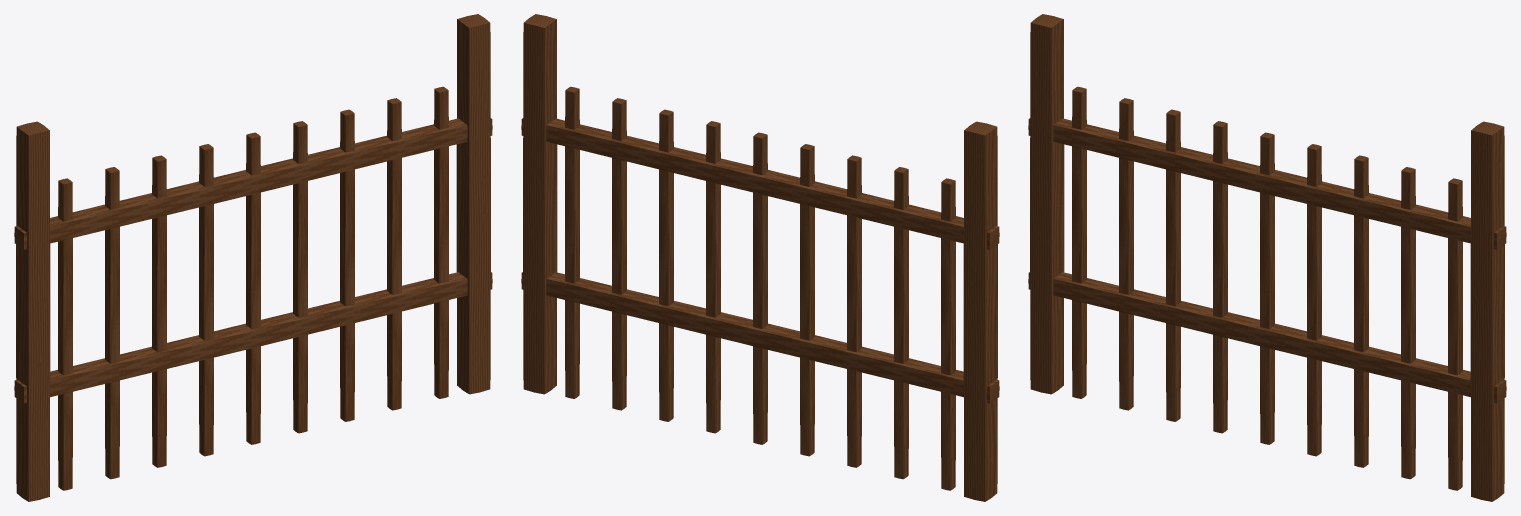
3 views of the same model, side by side, from view 1: azimuth 30°, elevation 25°; view 2: azimuth 150°, elevation 25°; view 3: azimuth 330°, elevation 25° (orthographic).
Parts seen in each view (by area): view 1: wood.0, wood.1, wood.3, wood.2, wood.12, wood.4, wood.10, wood.11, wood.5, wood.6, wood.9, wood.7 (+1 smaller); view 2: wood.0, wood.1, wood.3, wood.2, wood.4, wood.12, wood.5, wood.6, wood.10, wood.11, wood.7, wood.9 (+1 smaller); view 3: wood.1, wood.0, wood.3, wood.2, wood.12, wood.4, wood.11, wood.10, wood.6, wood.5, wood.9, wood.7 (+1 smaller).
Part boxes in pixels (x1,y1,x2,y2): wood.0: [16, 121, 50, 501]; wood.1: [456, 14, 490, 394]; wood.3: [14, 118, 492, 249]; wood.2: [14, 272, 492, 403]; wood.12: [434, 86, 448, 398]; wood.4: [58, 178, 72, 490]; wood.10: [340, 109, 354, 421]; wood.11: [387, 98, 401, 410]; wood.5: [105, 167, 119, 479]; wood.6: [152, 155, 166, 467]; wood.9: [293, 121, 307, 433]; wood.7: [199, 144, 213, 456]; wood.0: [963, 121, 997, 501]; wood.1: [523, 14, 557, 394]; wood.3: [521, 118, 999, 249]; wood.2: [521, 272, 999, 403]; wood.4: [941, 178, 955, 490]; wood.12: [565, 86, 579, 398]; wood.5: [894, 167, 908, 479]; wood.6: [847, 155, 861, 467]; wood.10: [659, 109, 673, 421]; wood.11: [612, 98, 626, 410]; wood.7: [800, 144, 814, 456]; wood.9: [706, 121, 720, 433]; wood.1: [1470, 121, 1504, 501]; wood.0: [1030, 14, 1064, 394]; wood.3: [1028, 118, 1506, 249]; wood.2: [1028, 272, 1506, 403]; wood.12: [1448, 178, 1462, 490]; wood.4: [1072, 86, 1086, 398]; wood.11: [1401, 167, 1415, 479]; wood.10: [1354, 155, 1368, 467]; wood.6: [1166, 109, 1180, 421]; wood.5: [1119, 98, 1133, 410]; wood.9: [1307, 144, 1321, 456]; wood.7: [1213, 121, 1227, 433].
Bounding box in the file's own units: 1.6 × 1.2 × 0.08.
Materials: 1 (1 with a texture image).
